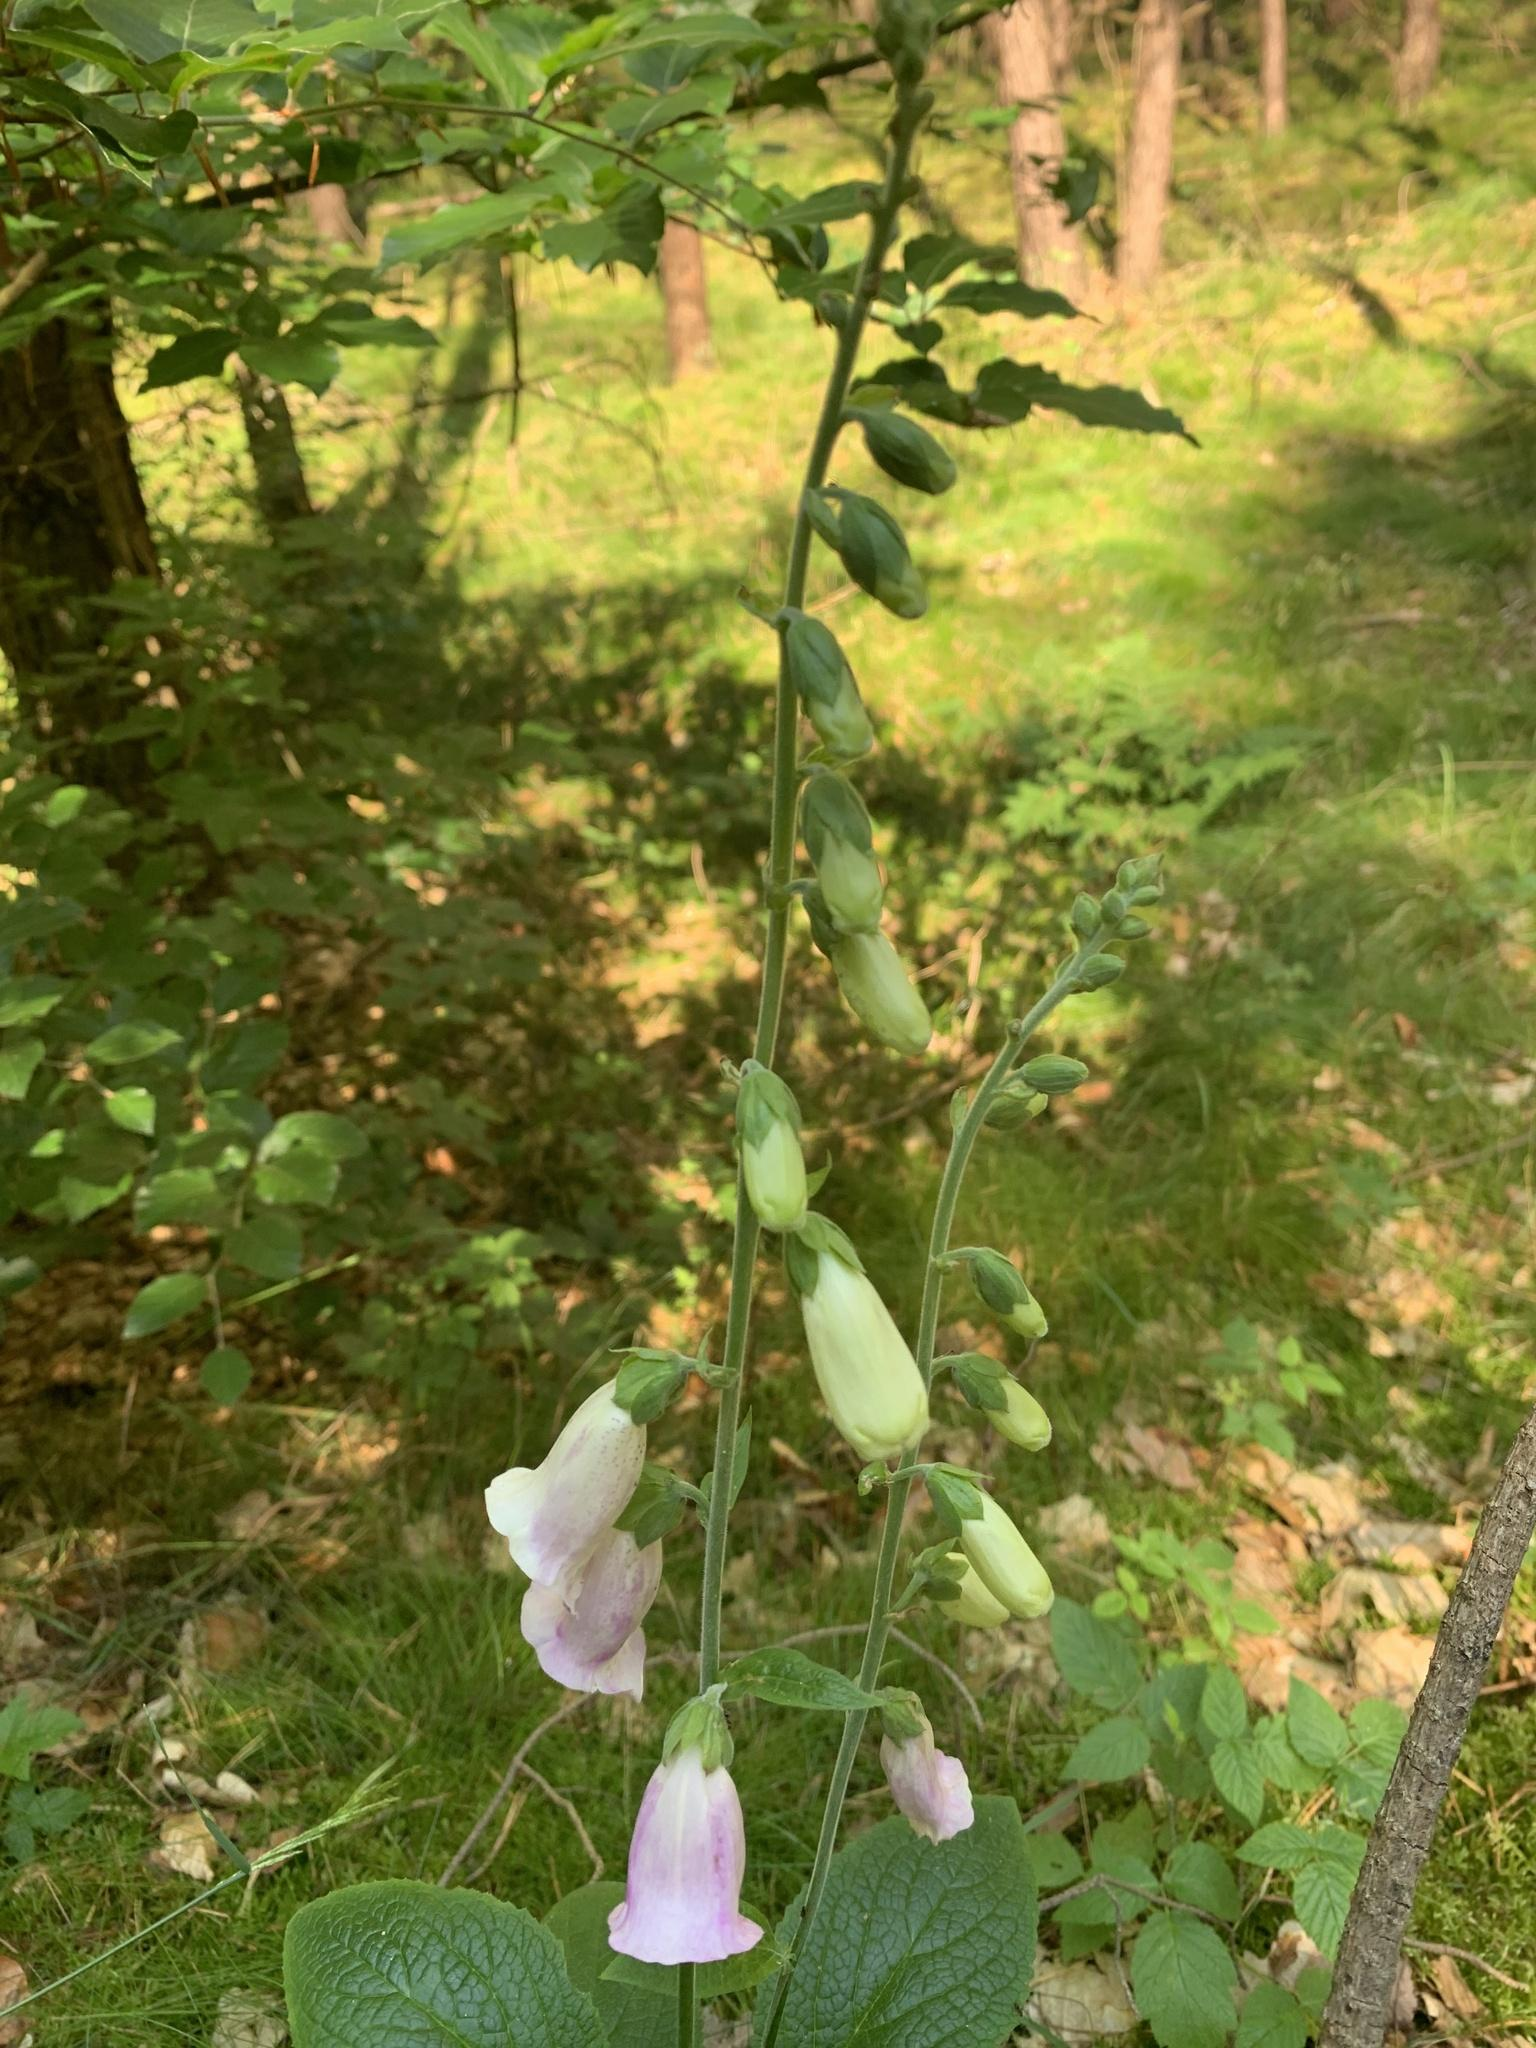Digitalis L: (476, 40, 1002, 2042)
